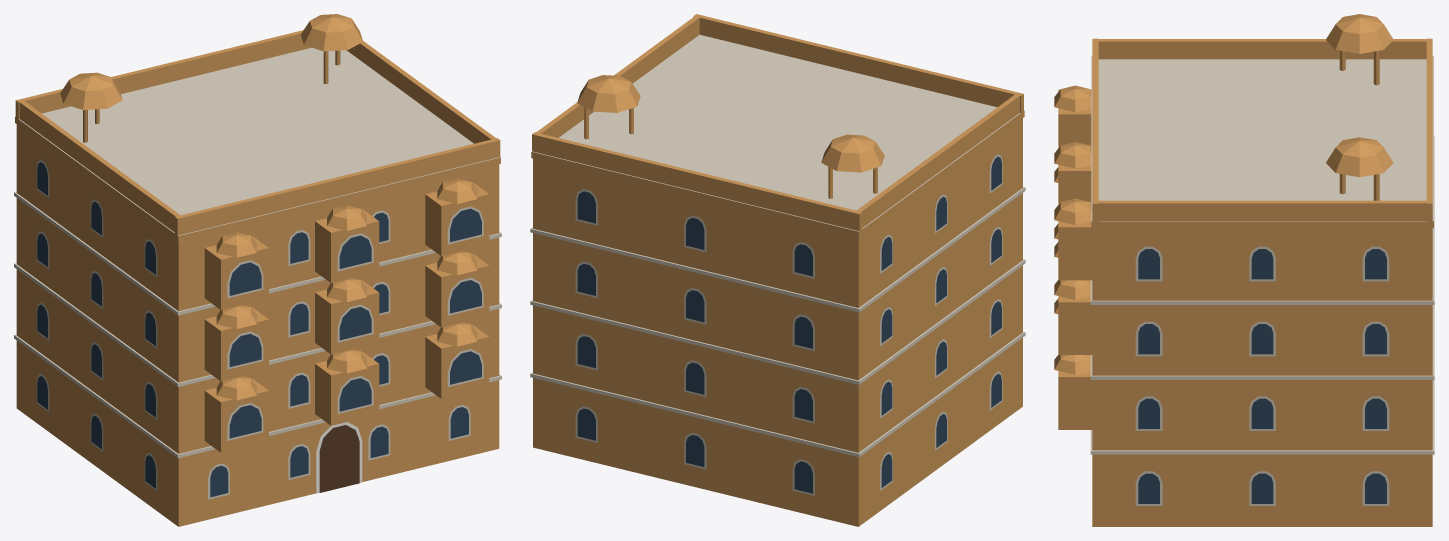
Rendered from haveli.glb.
The picture shows the model from 3 angles, left to right: view 1: azimuth 30°, elevation 25°; view 2: azimuth 150°, elevation 25°; view 3: azimuth 270°, elevation 25°; orthographic projection. The views are drawn at different scales.
Parts seen in each view (by area): view 1: haveli; view 2: haveli; view 3: haveli.
Part boxes in pixels (x1,y1,x2,y2): haveli: [14, 14, 501, 526]; haveli: [530, 14, 1025, 526]; haveli: [1054, 14, 1434, 526].
Bounding box in the file's own units: 16.16 × 16.6 × 15.65.
Materials: 1 (1 with a texture image).
